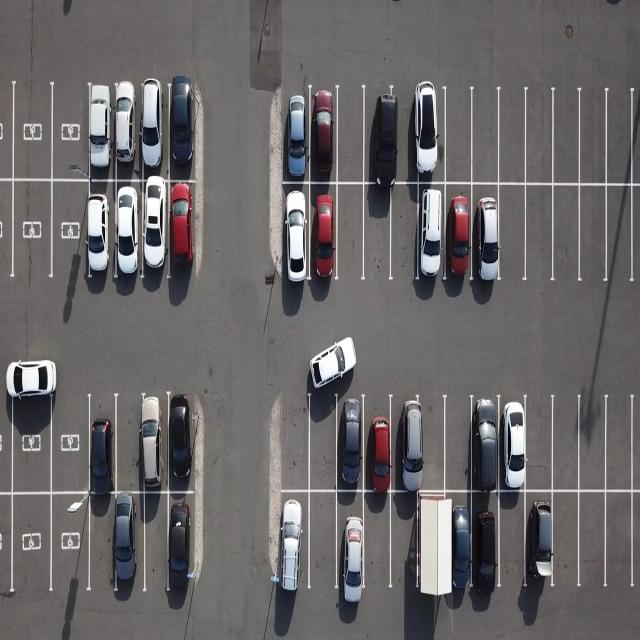space-empty: (50, 384, 93, 494), (50, 491, 94, 593), (8, 495, 50, 597), (50, 178, 90, 285), (10, 178, 50, 284), (10, 79, 50, 181), (307, 491, 343, 599), (114, 392, 152, 492), (493, 490, 528, 597), (52, 82, 89, 181), (547, 490, 582, 594), (359, 492, 393, 597), (573, 491, 607, 591), (415, 491, 447, 597), (605, 491, 638, 592), (574, 183, 607, 284), (606, 184, 638, 288), (525, 184, 558, 284), (550, 181, 582, 284), (336, 84, 369, 182), (605, 90, 638, 188), (605, 394, 638, 492), (85, 494, 117, 595), (310, 395, 343, 492), (496, 184, 528, 284), (550, 394, 583, 490), (525, 88, 558, 184), (575, 397, 608, 493), (390, 184, 422, 282), (336, 184, 367, 285), (141, 490, 171, 594), (525, 398, 558, 492), (575, 88, 607, 184), (361, 180, 392, 279), (441, 397, 473, 492), (388, 493, 418, 594), (495, 90, 526, 186), (470, 89, 501, 184), (551, 89, 582, 184), (441, 92, 472, 186), (416, 398, 447, 492), (393, 86, 420, 183)
space-occupied: (7, 376, 50, 494), (272, 489, 312, 600), (163, 491, 204, 596), (467, 490, 503, 598), (362, 83, 400, 183), (112, 494, 148, 597), (168, 180, 205, 280), (167, 396, 203, 495), (335, 487, 368, 593), (81, 178, 114, 284), (308, 181, 342, 283), (112, 179, 145, 283), (440, 182, 473, 285), (494, 399, 530, 493), (85, 392, 118, 494), (526, 486, 558, 590), (393, 398, 427, 495), (361, 397, 395, 494), (413, 90, 447, 186), (140, 182, 172, 284), (469, 397, 504, 490), (446, 489, 476, 597), (416, 183, 448, 284), (471, 183, 503, 284), (310, 84, 342, 183), (138, 393, 170, 492), (336, 396, 368, 491), (138, 83, 169, 181), (283, 182, 311, 287), (170, 85, 200, 182), (84, 83, 112, 181), (114, 84, 142, 181), (284, 86, 310, 185)
